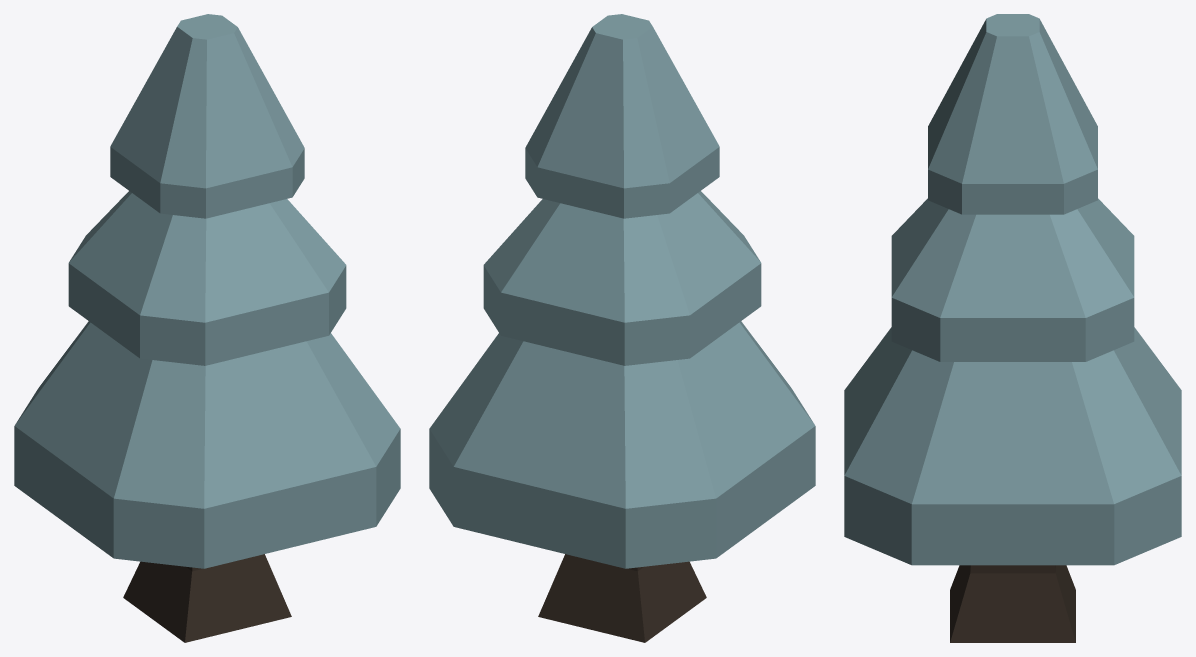
File: pin-enneige-4.glb
3 views of the same model, side by side, from view 1: azimuth 30°, elevation 25°; view 2: azimuth 150°, elevation 25°; view 3: azimuth 270°, elevation 25° (orthographic).
Parts seen in each view (by area): view 1: tree_pineSmallA; view 2: tree_pineSmallA; view 3: tree_pineSmallA.
Boxes of the visible parts, x1=… form: tree_pineSmallA: x1=14, y1=14, x2=400, y2=642; tree_pineSmallA: x1=429, y1=14, x2=815, y2=642; tree_pineSmallA: x1=844, y1=14, x2=1181, y2=642.
Bounding box in the file's own units: 3.1 × 6 × 3.1.
